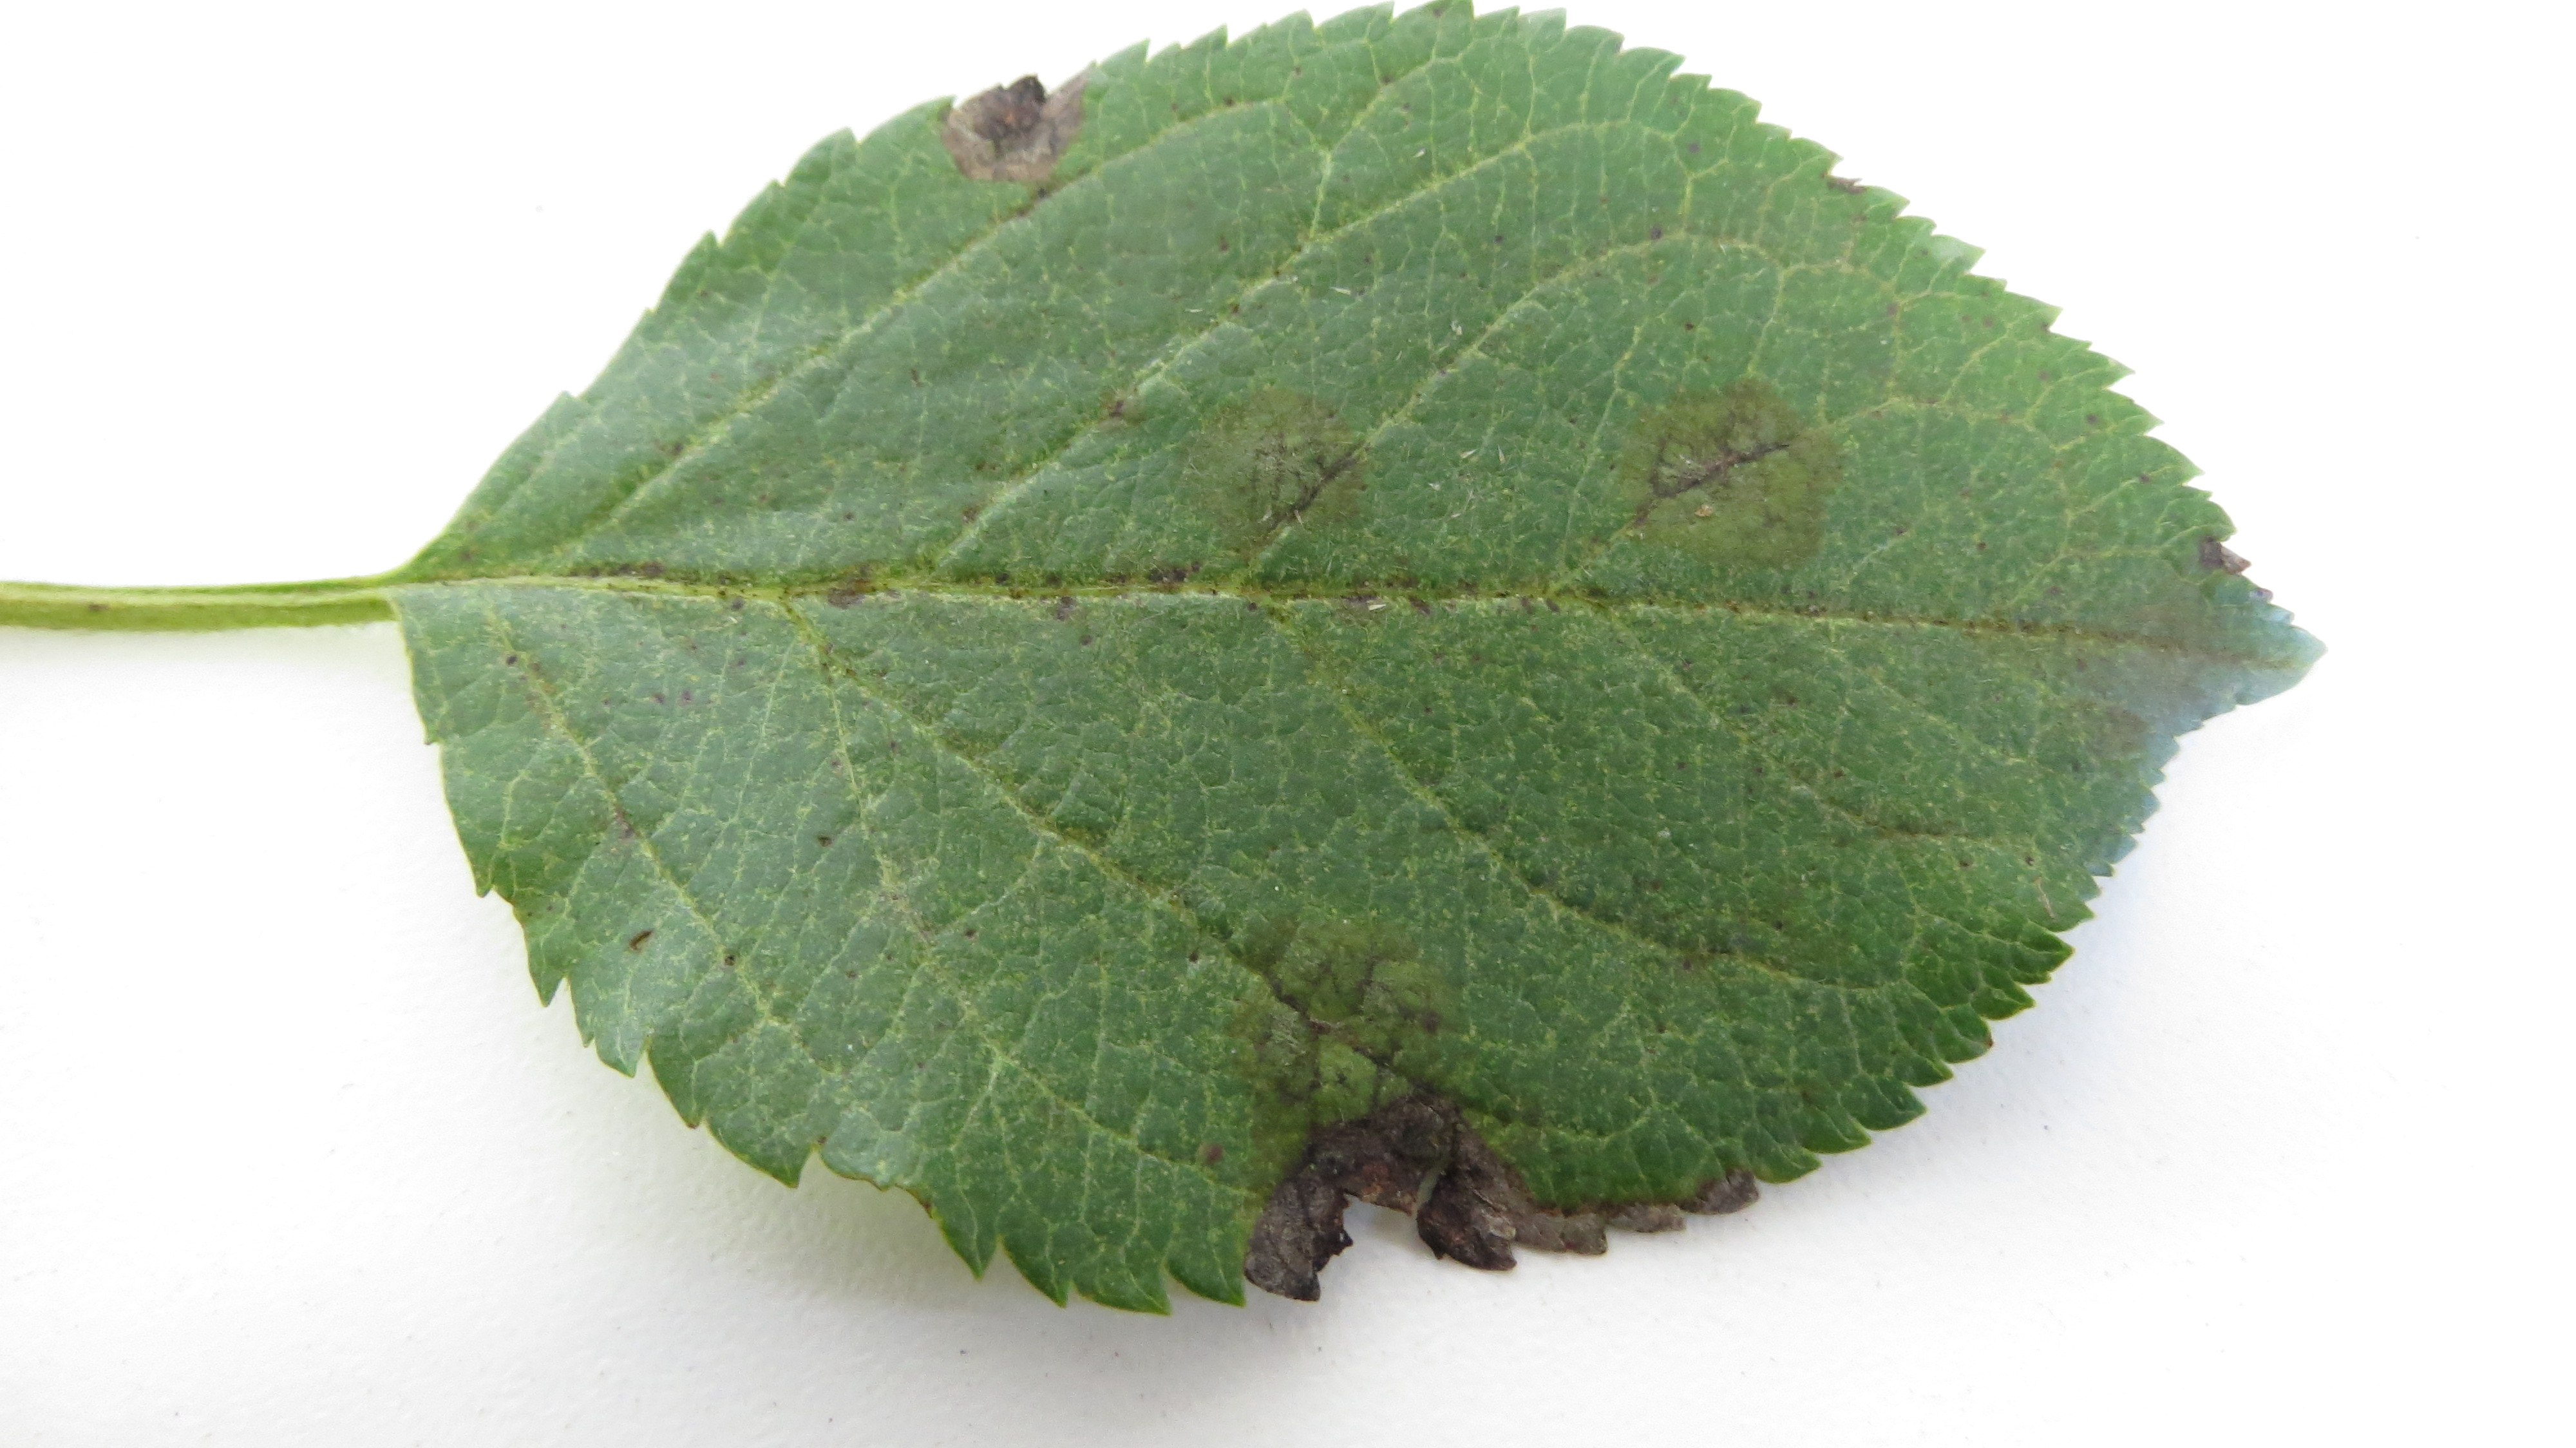sarna: (1254, 1090, 1506, 1283), (1615, 372, 1845, 568), (1184, 372, 1382, 577), (2033, 586, 2249, 754), (1240, 912, 1422, 1101), (947, 42, 1108, 196)
